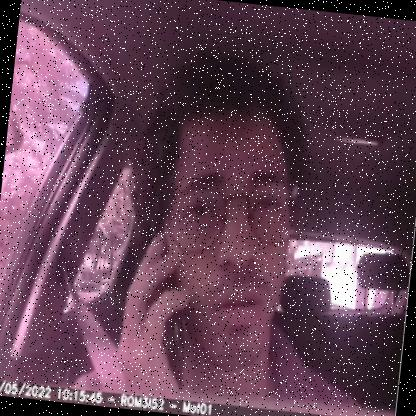phone: (121, 218, 208, 388)
